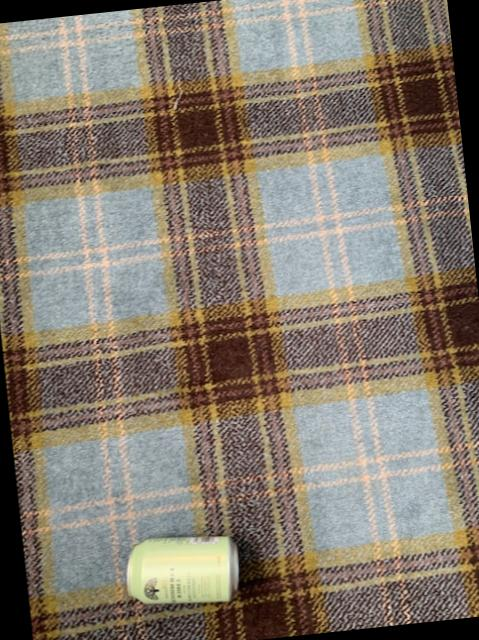metal: (128, 535, 239, 602)
